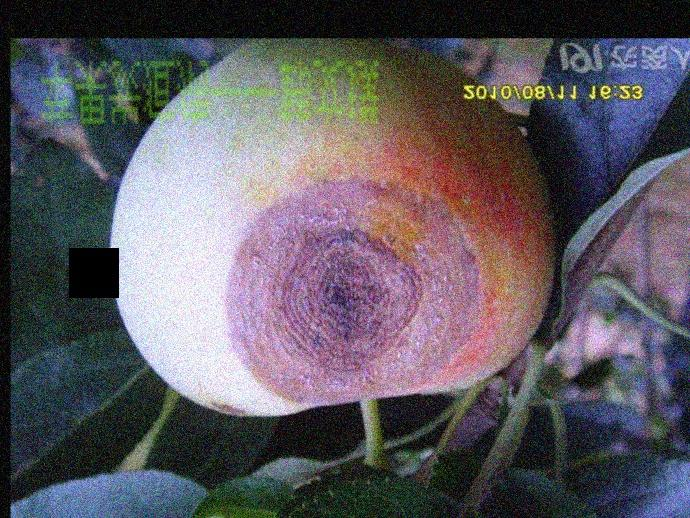rotten apple: (99, 47, 561, 422)
